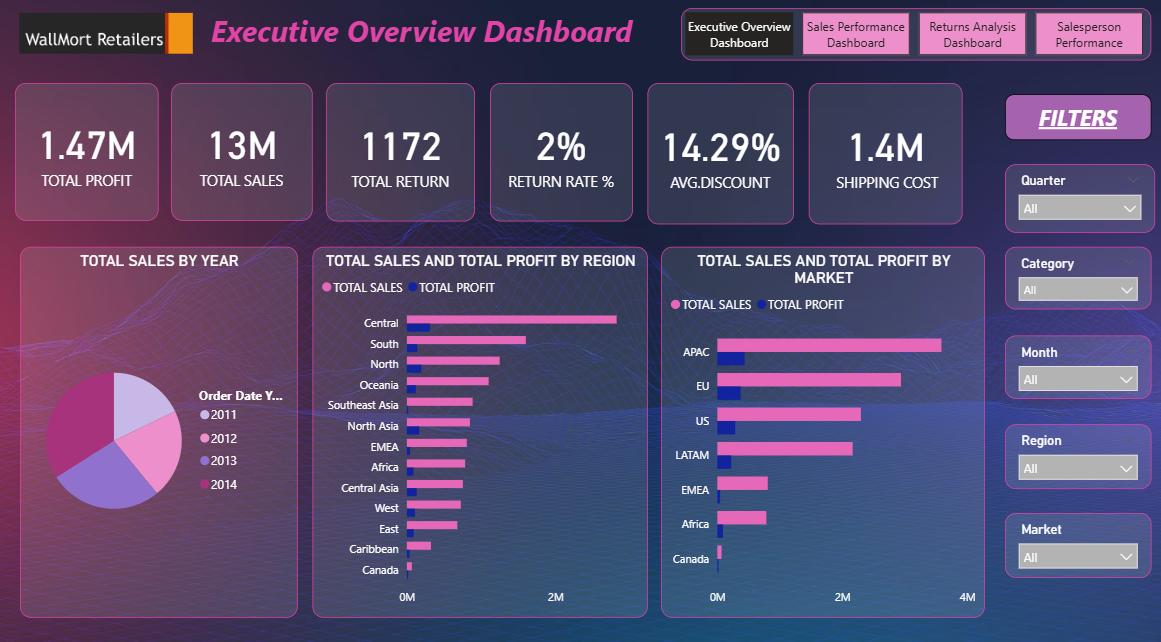

What the dashboard file says about the page in this screenshot:
{"tool":"powerbi","page":{"name":"Executive Overview Dashboard","canvas":[1280,720],"ordinal":0},"visuals":[{"type":"clusteredBarChart","title":"TOTAL SALES AND TOTAL PROFIT BY REGION","fields":{"Category":["Orders.Region"],"Y":["Orders.TOTAL SALES","Orders.TOTAL PROFIT"]},"box":[343.1,278.6,367.8,407.5],"z":0},{"type":"pieChart","title":"TOTAL SALES BY YEAR","fields":{"Category":["Orders.Order Date.Variation.Date Hierarchy.Year","Orders.Order Date.Variation.Date Hierarchy.Month"],"Y":["Orders.TOTAL SALES"]},"box":[22,278.6,304.6,407.5],"z":1000},{"type":"slicer","fields":{"Values":["Orders.Region"]},"box":[1103.3,473.4,160.5,71.4],"z":2000},{"type":"slicer","fields":{"Values":["Orders.Market"]},"box":[1103.3,570.8,160.5,71.4],"z":3000},{"type":"textbox","box":[200.3,15.1,510.5,57.6],"z":4000},{"type":"card","fields":{"Values":["Orders.TOTAL PROFIT"]},"box":[16.5,98.8,157.8,150.9],"z":5000},{"type":"card","fields":{"Values":["Orders.TOTAL SALES"]},"box":[188,98.8,155.1,150.9],"z":6000},{"type":"card","fields":{"Values":["Orders.TOTAL RETURN"]},"box":[358.1,98.8,163.3,152.3],"z":7000},{"type":"card","fields":{"Values":["Orders.RETURN RATE %"]},"box":[537.9,98.8,156.4,152.3],"z":8000},{"type":"card","fields":{"Values":["Orders.AVG.DISCOUNT"]},"box":[710.8,98.8,160.5,155.1],"z":9000},{"type":"card","fields":{"Values":["Orders.TOTAL SHIPPING COST"]},"box":[887.8,98.8,168.8,155.1],"z":10000},{"type":"slicer","fields":{"Values":["Orders.Order Date.Variation.Date Hierarchy.Quarter"]},"box":[1103.3,188,164.7,75.5],"z":11000},{"type":"slicer","fields":{"Values":["Orders.Order Date.Variation.Date Hierarchy.Month"]},"box":[1103.3,376,160.5,70],"z":12000},{"type":"clusteredBarChart","title":"TOTAL SALES AND TOTAL PROFIT BY MARKET","fields":{"Category":["Orders.Market"],"Y":["Orders.TOTAL SALES","Orders.TOTAL PROFIT"]},"box":[725.9,278.6,355.4,407.5],"z":13000},{"type":"slicer","fields":{"Values":["Orders.Category"]},"box":[1103.3,278.6,160.5,68.6],"z":14000},{"type":"image","box":[16.5,8.2,200.3,72.7],"z":15000},{"type":"textbox","box":[1103.3,111.1,160.5,50.8],"z":16000},{"type":"pageNavigator","box":[747.9,16.5,516,57.6],"z":17000}]}

Visuals, with their boxes in screenshot pixels (x1, y1, x2, y2), scaled from the page's 1280x720 canvas onto the 1161x642 screenshot:
"TOTAL SALES AND TOTAL PROFIT BY REGION" clusteredBarChart: Rect(311, 248, 645, 612)
"TOTAL SALES BY YEAR" pieChart: Rect(20, 248, 296, 612)
slicer - Orders.Region: Rect(1001, 422, 1146, 486)
slicer - Orders.Market: Rect(1001, 509, 1146, 573)
textbox: Rect(182, 13, 645, 65)
card - Orders.TOTAL PROFIT: Rect(15, 88, 158, 223)
card - Orders.TOTAL SALES: Rect(171, 88, 311, 223)
card - Orders.TOTAL RETURN: Rect(325, 88, 473, 224)
card - Orders.RETURN RATE %: Rect(488, 88, 630, 224)
card - Orders.AVG.DISCOUNT: Rect(645, 88, 790, 226)
card - Orders.TOTAL SHIPPING COST: Rect(805, 88, 958, 226)
slicer - Orders.Order Date.Variation.Date Hierarchy.Quarter: Rect(1001, 168, 1150, 235)
slicer - Orders.Order Date.Variation.Date Hierarchy.Month: Rect(1001, 335, 1146, 398)
"TOTAL SALES AND TOTAL PROFIT BY MARKET" clusteredBarChart: Rect(658, 248, 981, 612)
slicer - Orders.Category: Rect(1001, 248, 1146, 310)
image: Rect(15, 7, 197, 72)
textbox: Rect(1001, 99, 1146, 144)
pageNavigator: Rect(678, 15, 1146, 66)
